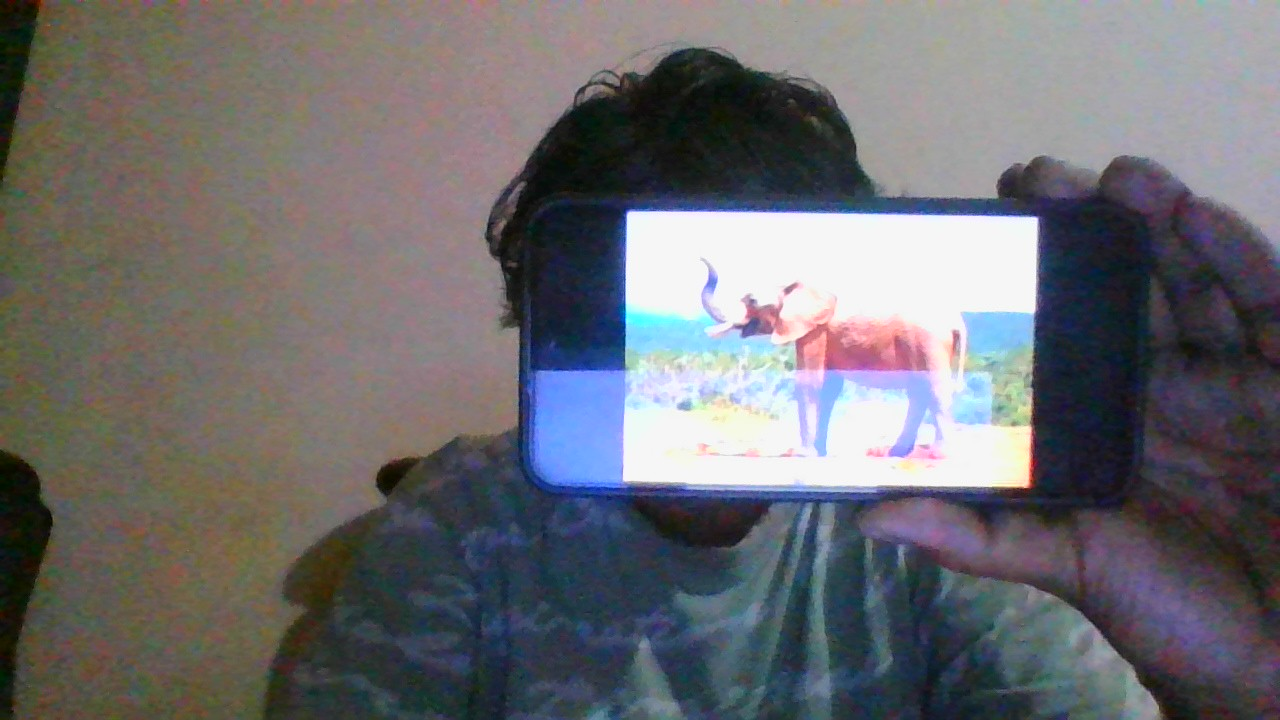elephant: (702, 258, 966, 456)
